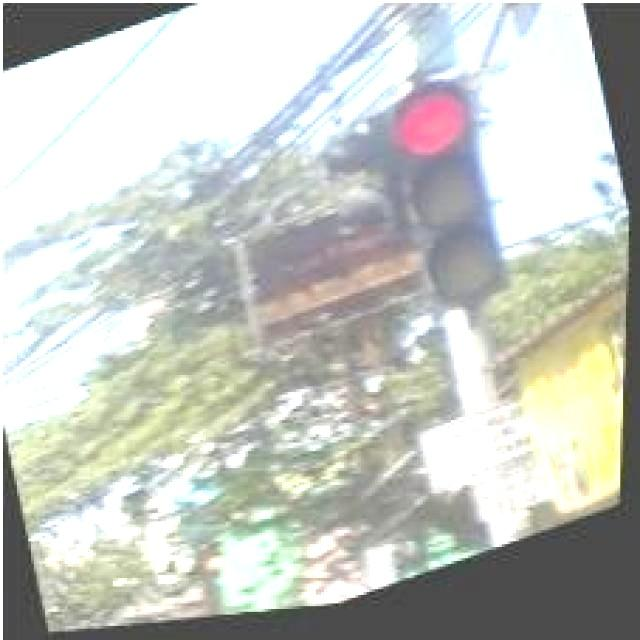Red: (381, 79, 522, 333)
